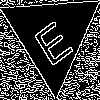E: (27, 11, 76, 68)
